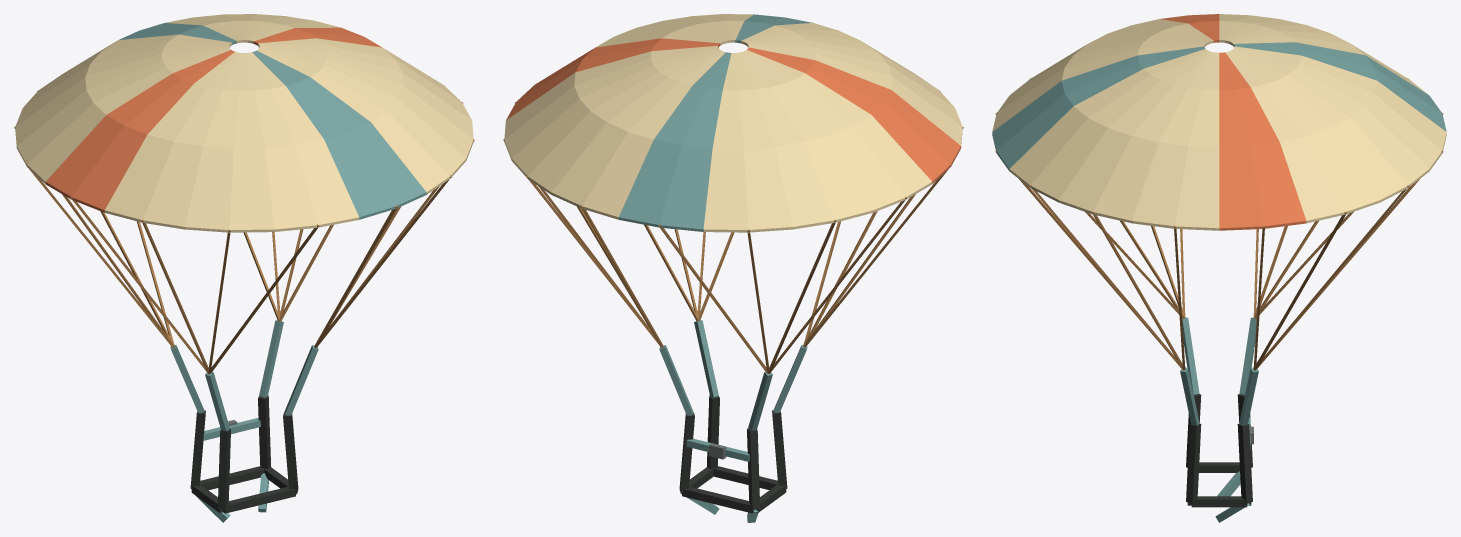
File: parachute.glb
3 views of the same model, side by side, from view 1: azimuth 30°, elevation 25°; view 2: azimuth 150°, elevation 25°; view 3: azimuth 270°, elevation 25° (orthographic).
Parts seen in each view (by area): view 1: GEO-CanopyGore10, GEO-CanopyGore11, GEO-CanopyGore09, GEO-CanopyGore12, GEO-CanopyGore08, GEO-CanopyGore13, GEO-CanopyGore07, GEO-CanopyGore14, GEO-CanopyGore06, GEO-CanopyGore15, GEO-CanopyGore05, GEO-CanopyGore00 (+21 smaller); view 2: GEO-CanopyGore05, GEO-CanopyGore04, GEO-CanopyGore06, GEO-CanopyGore03, GEO-CanopyGore07, GEO-CanopyGore02, GEO-CanopyGore08, GEO-CanopyGore01, GEO-CanopyGore09, GEO-CanopyGore00, GEO-CanopyGore10, GEO-CanopyGore15 (+21 smaller); view 3: GEO-CanopyGore00, GEO-CanopyGore15, GEO-CanopyGore01, GEO-CanopyGore14, GEO-CanopyGore02, GEO-CanopyGore13, GEO-CanopyGore03, GEO-CanopyGore12, GEO-CanopyGore04, GEO-CanopyGore11, GEO-CanopyGore05, GEO-CanopyGore10 (+17 smaller).
Boxes of the visible parts, x1=… form: GEO-CanopyGore10: x1=185, y1=53, x2=274, y2=232; GEO-CanopyGore11: x1=246, y1=52, x2=359, y2=231; GEO-CanopyGore09: x1=104, y1=51, x2=240, y2=229; GEO-CanopyGore12: x1=252, y1=50, x2=426, y2=219; GEO-CanopyGore08: x1=45, y1=50, x2=234, y2=212; GEO-CanopyGore13: x1=257, y1=48, x2=466, y2=194; GEO-CanopyGore07: x1=16, y1=47, x2=230, y2=183; GEO-CanopyGore14: x1=259, y1=45, x2=473, y2=160; GEO-CanopyGore06: x1=15, y1=45, x2=229, y2=145; GEO-CanopyGore15: x1=257, y1=38, x2=471, y2=119; GEO-CanopyGore05: x1=23, y1=34, x2=232, y2=107; GEO-CanopyGore00: x1=253, y1=27, x2=381, y2=47; GEO-CanopyGore05: x1=703, y1=53, x2=792, y2=232; GEO-CanopyGore04: x1=618, y1=52, x2=731, y2=231; GEO-CanopyGore06: x1=737, y1=51, x2=873, y2=229; GEO-CanopyGore03: x1=551, y1=50, x2=725, y2=219; GEO-CanopyGore07: x1=743, y1=50, x2=932, y2=212; GEO-CanopyGore02: x1=511, y1=48, x2=720, y2=194; GEO-CanopyGore08: x1=747, y1=47, x2=960, y2=183; GEO-CanopyGore01: x1=504, y1=45, x2=718, y2=159; GEO-CanopyGore09: x1=748, y1=45, x2=962, y2=147; GEO-CanopyGore00: x1=506, y1=38, x2=720, y2=119; GEO-CanopyGore10: x1=745, y1=34, x2=954, y2=107; GEO-CanopyGore15: x1=596, y1=27, x2=724, y2=47; GEO-CanopyGore00: x1=1219, y1=52, x2=1306, y2=230; GEO-CanopyGore15: x1=1132, y1=52, x2=1219, y2=230; GEO-CanopyGore01: x1=1225, y1=51, x2=1380, y2=223; GEO-CanopyGore14: x1=1058, y1=51, x2=1213, y2=223; GEO-CanopyGore02: x1=1230, y1=49, x2=1429, y2=202; GEO-CanopyGore13: x1=1009, y1=49, x2=1208, y2=202; GEO-CanopyGore03: x1=1233, y1=46, x2=1446, y2=170; GEO-CanopyGore12: x1=992, y1=46, x2=1205, y2=170; GEO-CanopyGore04: x1=1233, y1=42, x2=1446, y2=131; GEO-CanopyGore11: x1=992, y1=42, x2=1205, y2=131; GEO-CanopyGore05: x1=1230, y1=31, x2=1427, y2=94; GEO-CanopyGore10: x1=1011, y1=31, x2=1208, y2=94.
Bounding box in the file's own units: 3.6 × 4.07 × 3.6.
